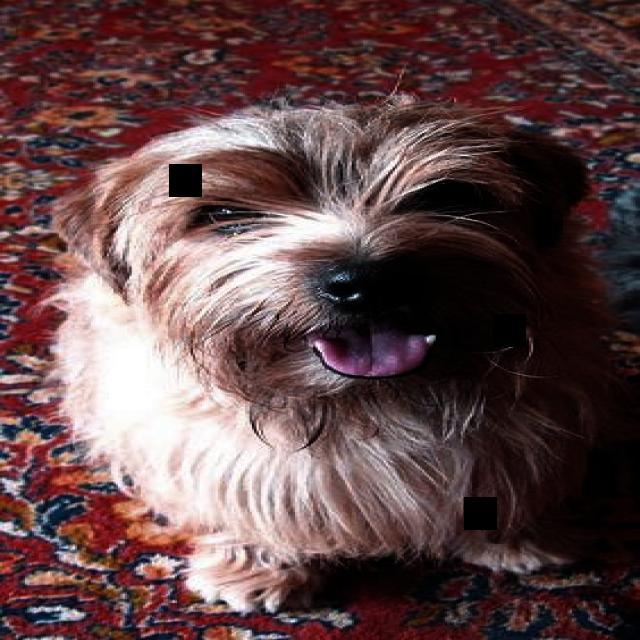adult_dog: (49, 85, 640, 614)
